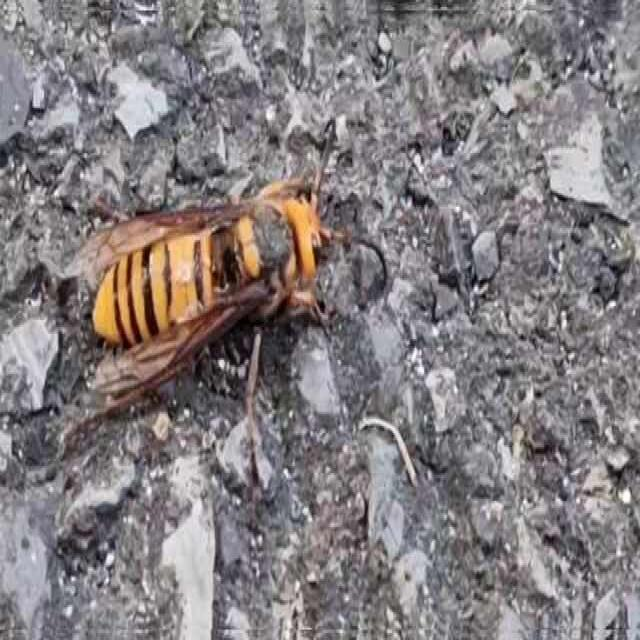Wasp: (56, 117, 395, 431)
